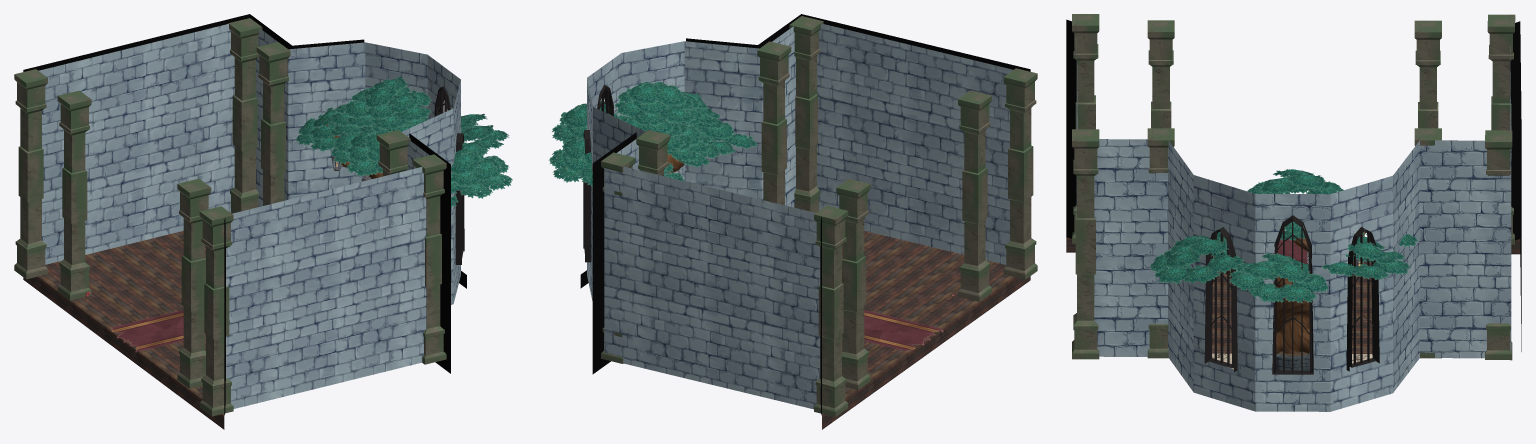
Rendered from old_fantasy-style_library_edit1.glb.
The picture shows the model from 3 angles, left to right: view 1: azimuth 30°, elevation 25°; view 2: azimuth 150°, elevation 25°; view 3: azimuth 270°, elevation 25°; orthographic projection. The views are drawn at different scales.
Visible parts, largest first — view 1: Object_39, Object_33, Object_11, Object_7, Object_9, Object_35, Object_10, Object_37, Object_34; view 2: Object_39, Object_33, Object_11, Object_7, Object_9, Object_35, Object_10, Object_37, Object_34; view 3: Object_39, Object_33, Object_11, Object_34, Object_9, Object_7, Object_8, Object_37, Object_36, Object_10.
Boxes of the visible parts, bbox=[...] form: Object_39: bbox=[38, 24, 460, 408]; Object_33: bbox=[14, 18, 446, 416]; Object_11: bbox=[295, 78, 512, 207]; Object_7: bbox=[23, 231, 224, 429]; Object_9: bbox=[23, 14, 466, 415]; Object_35: bbox=[38, 270, 224, 415]; Object_10: bbox=[111, 310, 205, 352]; Object_37: bbox=[300, 76, 508, 203]; Object_34: bbox=[434, 86, 464, 264]; Object_39: bbox=[587, 23, 1013, 409]; Object_33: bbox=[601, 16, 1037, 417]; Object_11: bbox=[548, 82, 757, 186]; Object_7: bbox=[822, 231, 1030, 429]; Object_9: bbox=[580, 14, 1030, 415]; Object_35: bbox=[822, 271, 1014, 415]; Object_10: bbox=[842, 310, 943, 351]; Object_37: bbox=[554, 81, 753, 181]; Object_34: bbox=[583, 84, 613, 262]; Object_39: bbox=[1076, 38, 1511, 411]; Object_33: bbox=[1072, 14, 1515, 360]; Object_11: bbox=[1149, 169, 1418, 303]; Object_34: bbox=[1204, 215, 1379, 374]; Object_9: bbox=[1066, 19, 1521, 351]; Object_7: bbox=[1066, 237, 1520, 353]; Object_8: bbox=[1218, 232, 1365, 365]; Object_37: bbox=[1154, 169, 1412, 298]; Object_36: bbox=[1276, 351, 1309, 370]; Object_10: bbox=[1277, 239, 1309, 319].
Bounding box in the file's own units: 136 × 73.95 × 125.
Materials: 16 (15 with a texture image).
